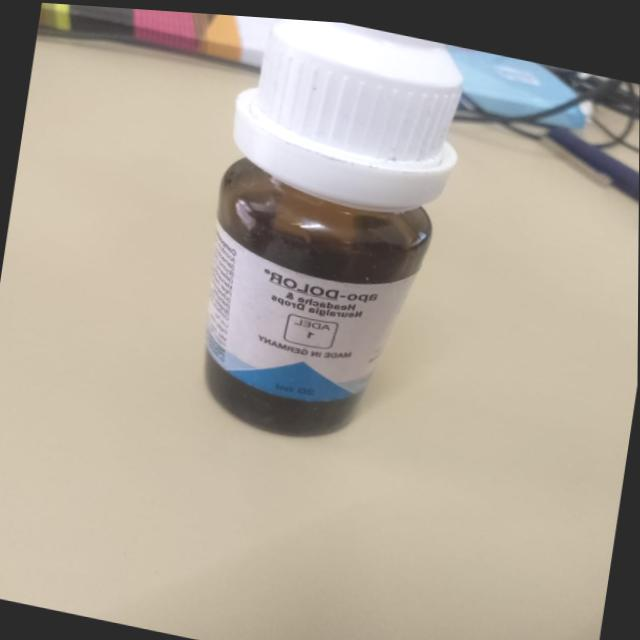medicine: (133, 12, 487, 464)
